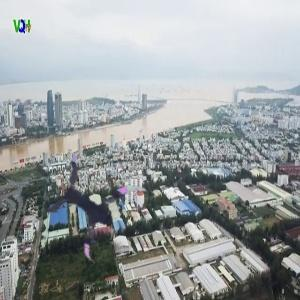drone: (45, 159, 150, 264)
